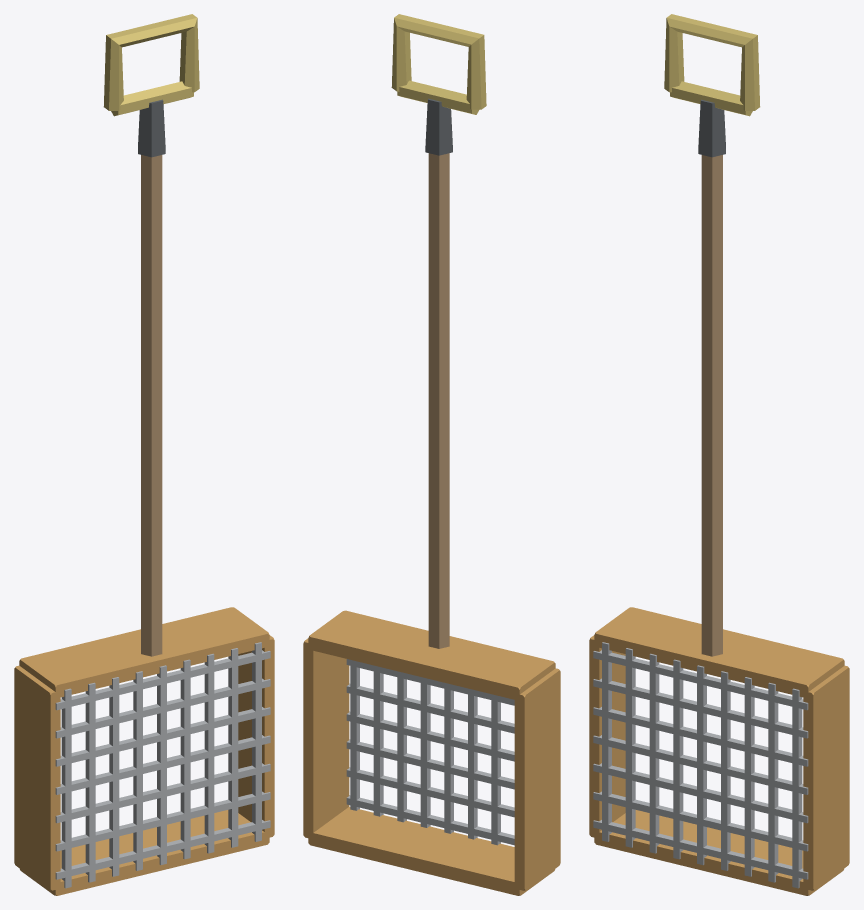
File: tool_sand_cleaner.glb
3 views of the same model, side by side, from view 1: azimuth 30°, elevation 25°; view 2: azimuth 150°, elevation 25°; view 3: azimuth 330°, elevation 25° (orthographic).
Parts seen in each view (by area): view 1: tool_sand_cleaner; view 2: tool_sand_cleaner; view 3: tool_sand_cleaner.
Boxes of the visible parts, bbox=[...] form: tool_sand_cleaner: bbox=[14, 14, 274, 895]; tool_sand_cleaner: bbox=[303, 14, 560, 895]; tool_sand_cleaner: bbox=[589, 14, 849, 895].
Size of the model in its own units: 0.356 by 1.27 by 0.103.
